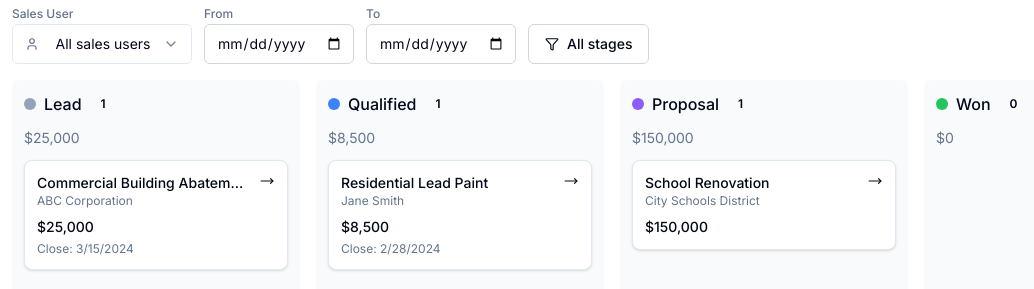
Test case: PipelineKanban › filters (PA4) › hides opportunities created after the "To" date
In the date field labelled "To": (441, 44) [366,24,516,64], type "2024-01-12"
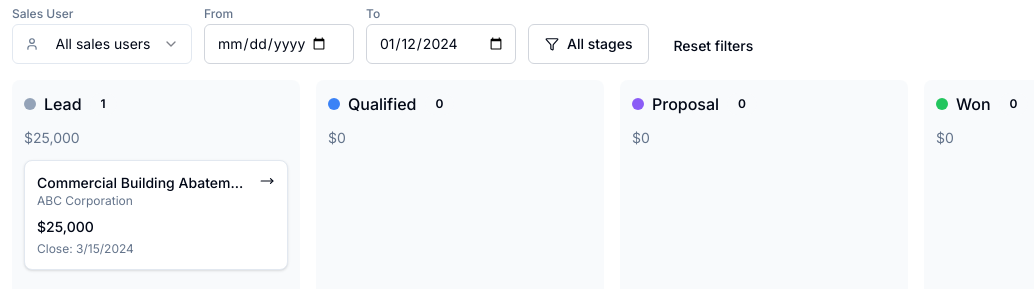
Expected: the text "Commercial Building Abatement" is shown, [37,173,247,193]
Expected: the link "Residential Lead Paint" is gone
Expected: the link "School Renovation" is gone
